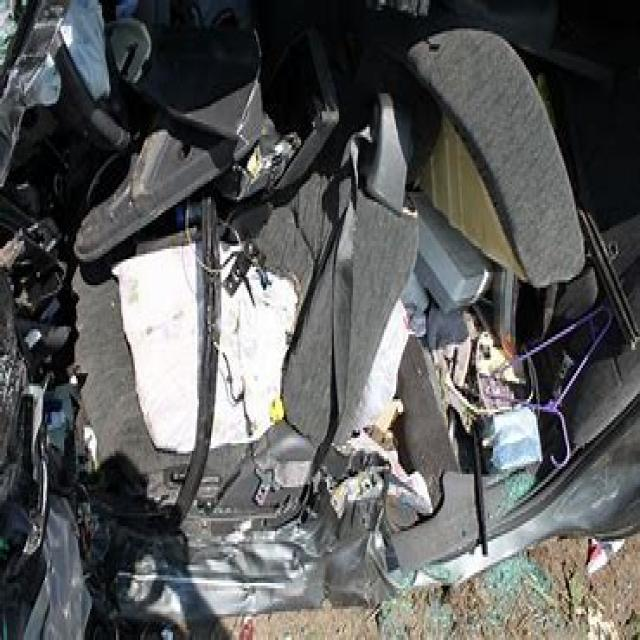Accident: (38, 84, 554, 548)
